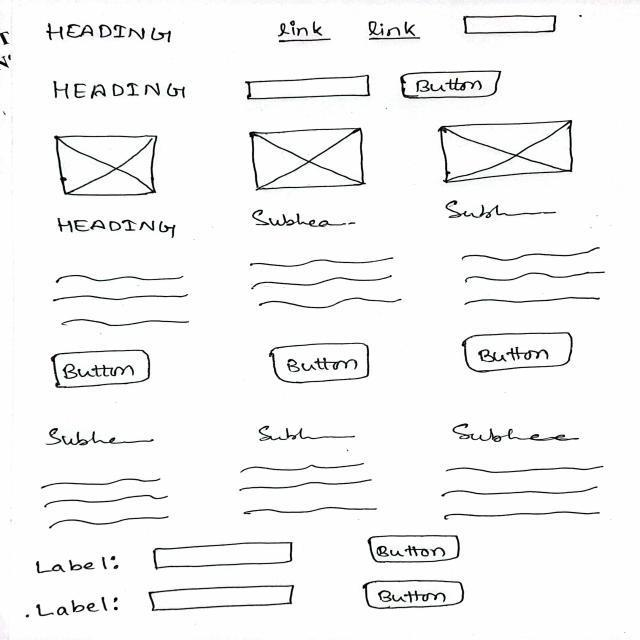textbox: (145, 582, 302, 616), (151, 536, 301, 571), (236, 72, 379, 106), (463, 8, 565, 40)
